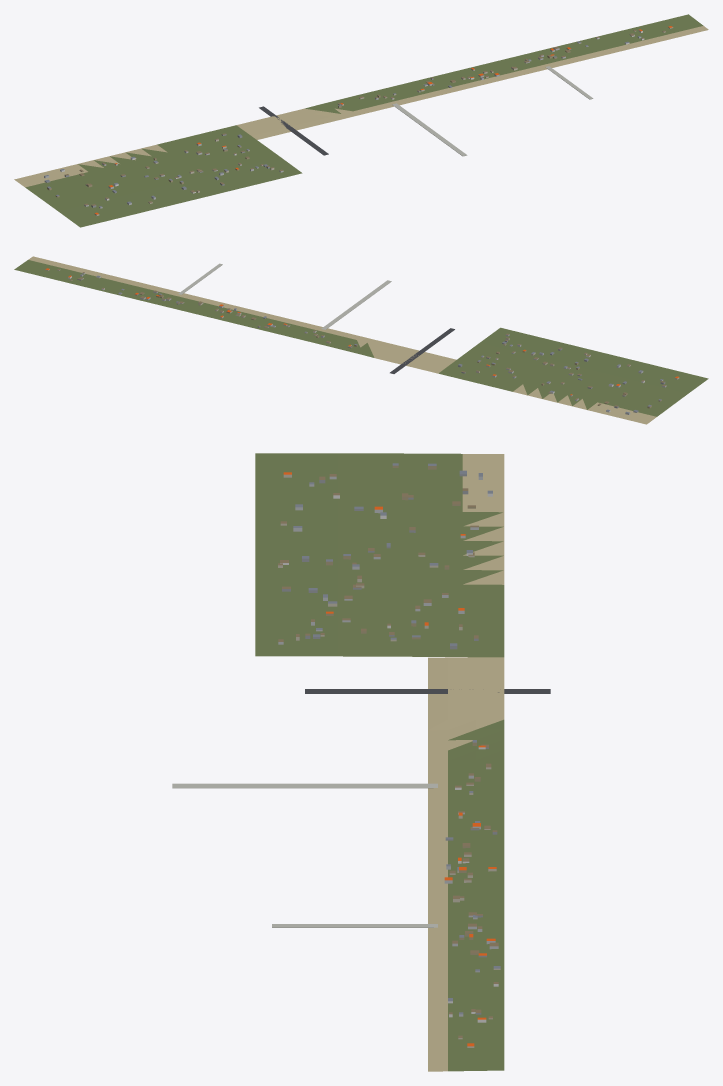
File: scenery-shore.glb
The picture shows the model from 3 angles, top to bottom: view 1: azimuth 30°, elevation 25°; view 2: azimuth 150°, elevation 25°; view 3: azimuth 270°, elevation 25°; orthographic projection. The views are drawn at different scales.
Parts seen in each view (by area): view 1: shore; view 2: shore; view 3: shore.
Boxes of the visible parts, x1=… form: shore: x1=14, y1=14, x2=708, y2=227; shore: x1=14, y1=256, x2=708, y2=424; shore: x1=172, y1=453, x2=550, y2=1071.
Size of the model in its own units: 8800 by 33.3 by 2280.
1 material, 1 textured.
